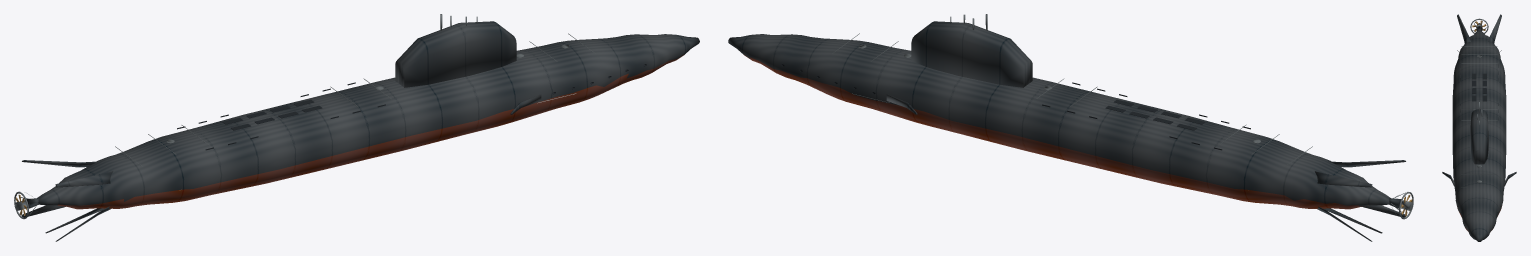
File: RU_SSN_Yasen_LOD3.fbx
3 views of the same model, side by side, from view 1: azimuth 30°, elevation 25°; view 2: azimuth 150°, elevation 25°; view 3: azimuth 270°, elevation 25° (orthographic). The views are drawn at different scales.
Parts seen in each view (by area): view 1: RU_SSN_Yasen_LOD3; view 2: RU_SSN_Yasen_LOD3; view 3: RU_SSN_Yasen_LOD3.
Boxes of the visible parts, x1,y1,x2,y2 form: RU_SSN_Yasen_LOD3: (14,14,699,241); RU_SSN_Yasen_LOD3: (728,14,1413,241); RU_SSN_Yasen_LOD3: (1442,14,1516,241).
Bounding box in the file's own units: 123 × 17.99 × 21.15.
